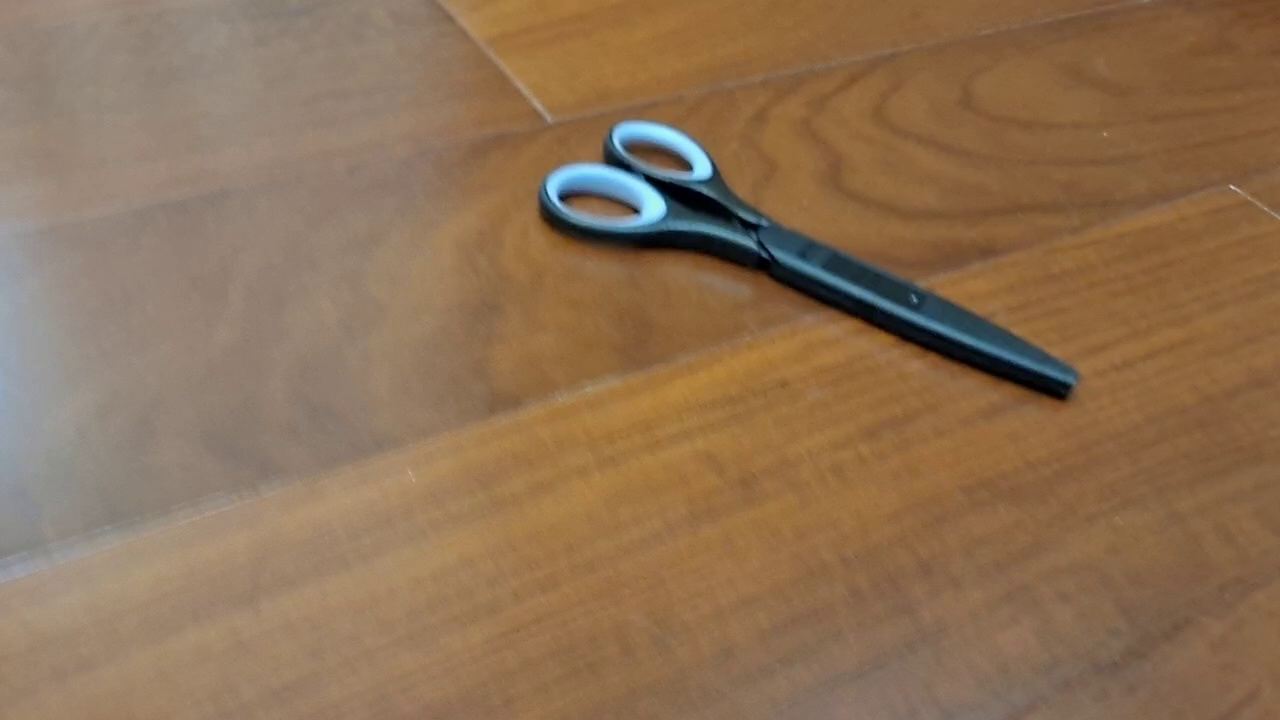scissors: (536, 118, 1084, 403)
